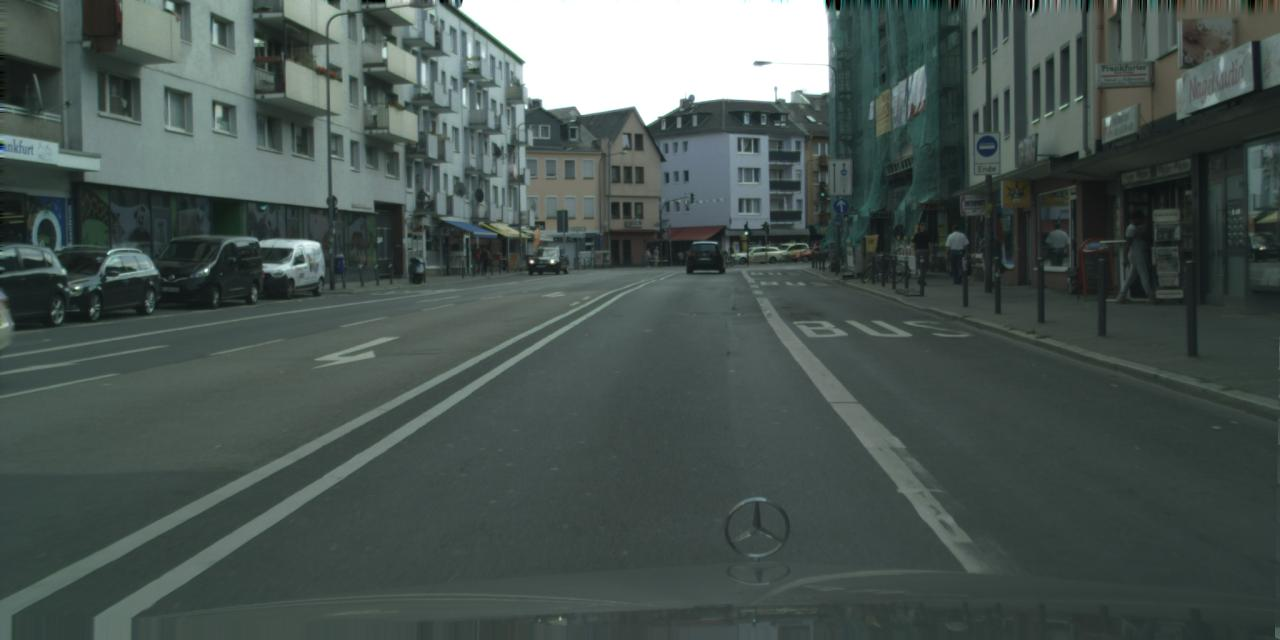ped: (1121, 210, 1158, 302), (910, 222, 935, 284), (944, 224, 968, 284), (978, 227, 1002, 286), (469, 243, 482, 274), (478, 245, 490, 275), (672, 251, 688, 266), (728, 244, 736, 264), (652, 246, 660, 266), (644, 248, 650, 266)
